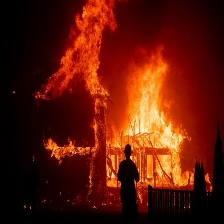fire: (30, 6, 189, 189)
